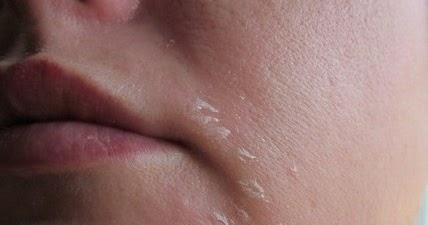Dry-Skin: (189, 97, 240, 141), (236, 177, 274, 207), (207, 206, 260, 225), (228, 146, 262, 166)
